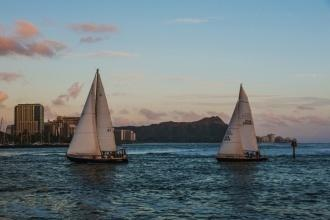fanchuan: (65, 70, 136, 164), (213, 82, 271, 162)
